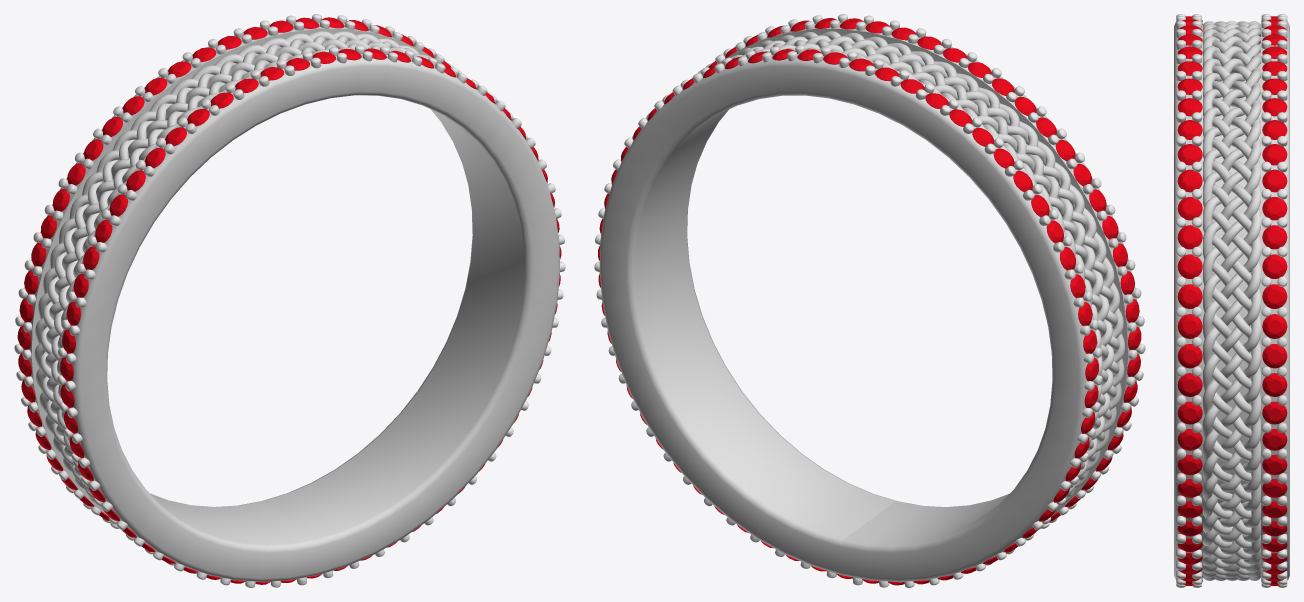
3 renders of one model, left to right at view 1: azimuth 30°, elevation 25°; view 2: azimuth 150°, elevation 25°; view 3: azimuth 270°, elevation 25°, orthographic.
Parts seen in each view (by area): view 1: Prongs.001; view 2: Prongs.001; view 3: Prongs.001.
Part boxes in pixels (box(x1,y1,x2,y2)): Prongs.001: box(14, 14, 565, 587); Prongs.001: box(594, 14, 1145, 587); Prongs.001: box(1174, 14, 1289, 587).
Bounding box in the file's own units: 1.96 × 1.97 × 0.3964.
